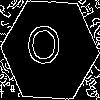O: (25, 25, 62, 73)
